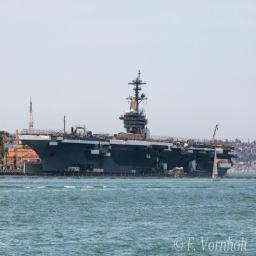Portanaves: (18, 69, 238, 177)
